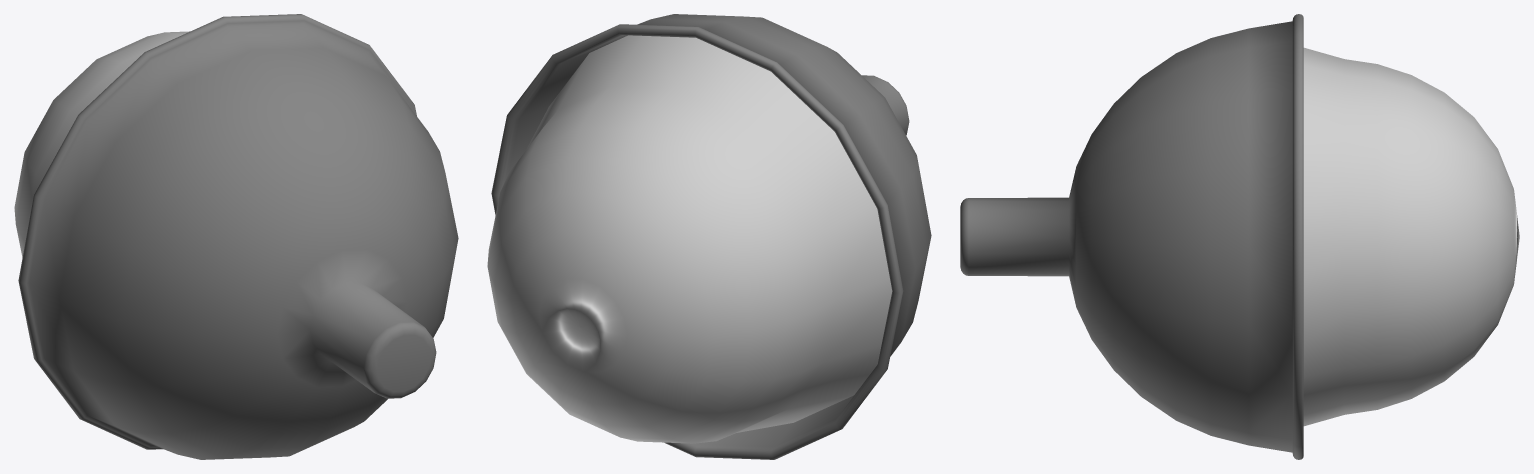
File: Jana VI.obj
3 views of the same model, side by side, from view 1: azimuth 30°, elevation 25°; view 2: azimuth 150°, elevation 25°; view 3: azimuth 270°, elevation 25° (orthographic). The views are drawn at different scales.
Parts seen in each view (by area): view 1: Glocke_BezierCurve.004, Glas_BezierCurve.005; view 2: Glas_BezierCurve.005, Glocke_BezierCurve.004; view 3: Glocke_BezierCurve.004, Glas_BezierCurve.005.
Boxes of the visible parts, box(x1,y1,x2,y2) form: Glocke_BezierCurve.004: box(18, 14, 458, 459); Glas_BezierCurve.005: box(14, 31, 189, 257); Glas_BezierCurve.005: box(487, 35, 892, 443); Glocke_BezierCurve.004: box(491, 14, 931, 459); Glocke_BezierCurve.004: box(960, 14, 1303, 459); Glas_BezierCurve.005: box(1303, 47, 1519, 426).
Size of the model in its own units: 0.4989 by 0.4989 by 0.6254.
Materials: 2 (1 with a texture image).
